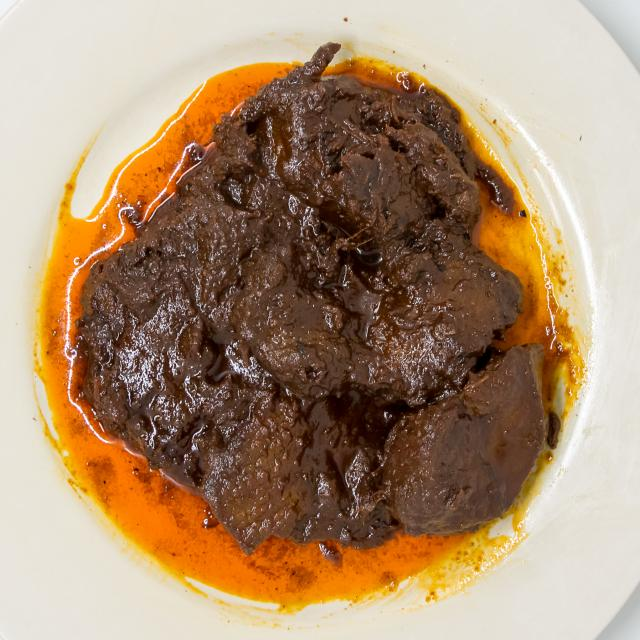Rendang: (58, 27, 578, 562)
